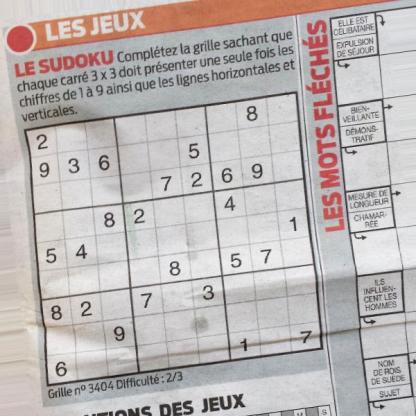sudoku: (21, 88, 326, 389)
